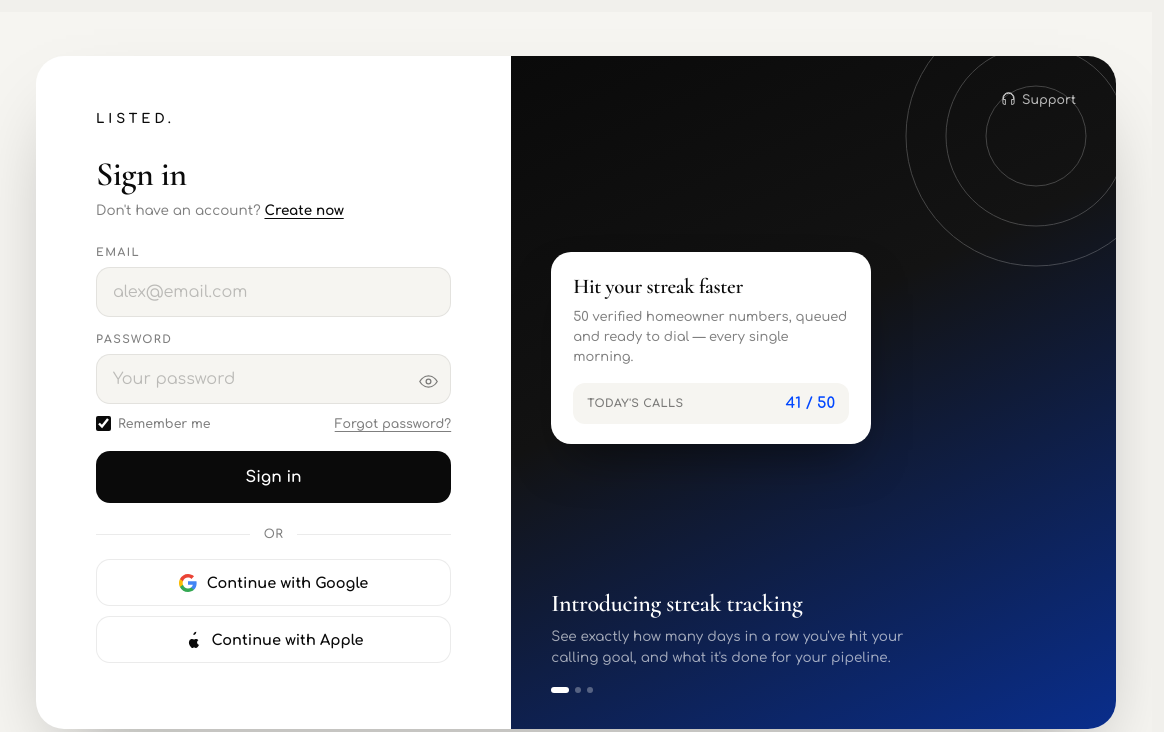
Login page › asks for both fields before signing in
What coordinates should you click on to do the following:
click the button "Sign in"
I would click on:
 (274, 477)
Its box is [96,451,451,503].
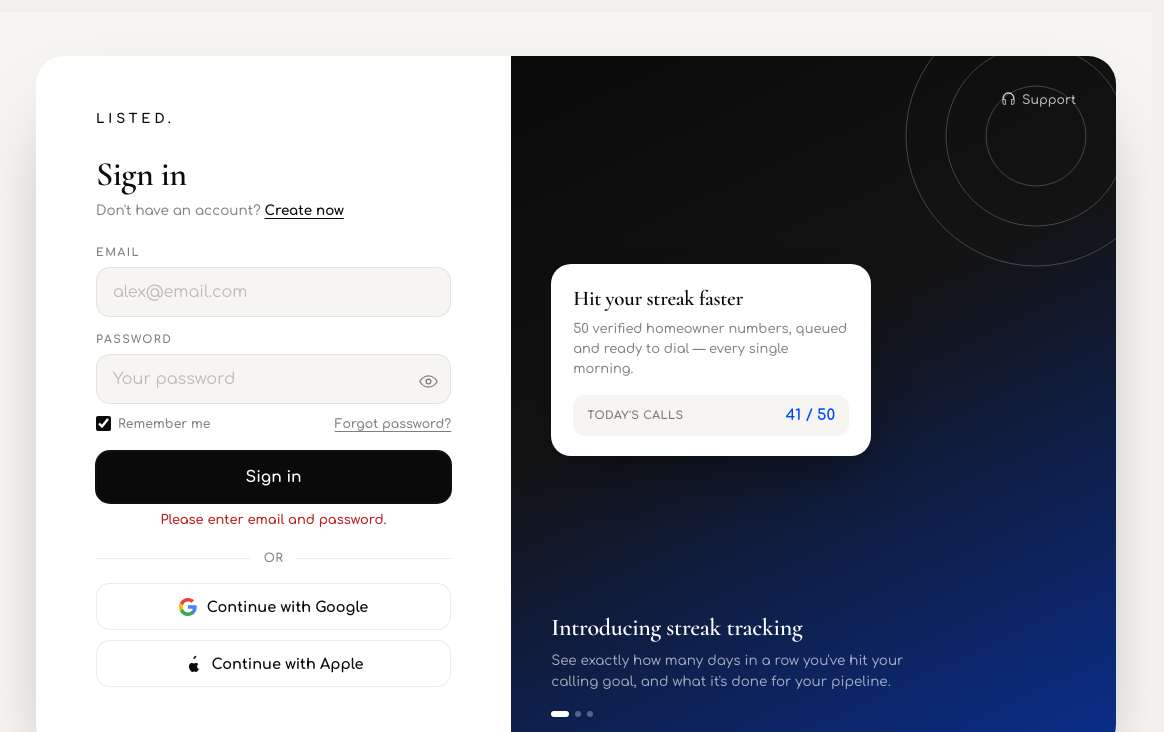
Expected: the message reads "Please enter email and password.", [161,513,387,527]
